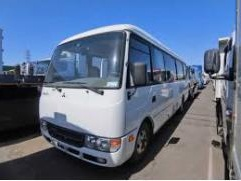bus: (39, 23, 198, 171)
